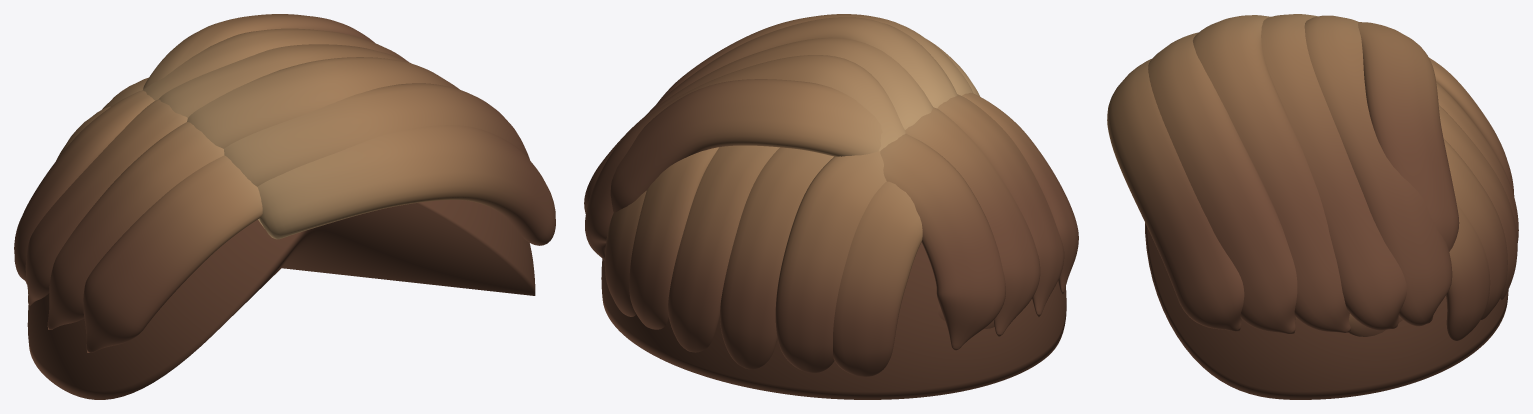
File: Masculine-sidepart-hair258-ombre.glb
The picture shows the model from 3 angles, left to right: view 1: azimuth 30°, elevation 25°; view 2: azimuth 150°, elevation 25°; view 3: azimuth 270°, elevation 25°; orthographic projection. The views are drawn at different scales.
Parts seen in each view (by area): view 1: 226 hair / Hair258 / sculpted side sweep 1, 226 hair / Hair258 / recessed roots, 226 hair / Hair258 / sculpted side sweep 0, 226 hair / Hair258 / sculpted side sweep 2; view 2: 226 hair / Hair258 / sculpted side sweep 0, 226 hair / Hair258 / sculpted side sweep 1, 226 hair / Hair258 / sculpted side sweep 2, 226 hair / Hair258 / recessed roots; view 3: 226 hair / Hair258 / sculpted side sweep 0, 226 hair / Hair258 / sculpted side sweep 1, 226 hair / Hair258 / sculpted side sweep 2, 226 hair / Hair258 / recessed roots.
Boxes of the visible parts, x1,y1,x2,y2 form: 226 hair / Hair258 / sculpted side sweep 1: (14,44,555,352); 226 hair / Hair258 / recessed roots: (27,200,535,399); 226 hair / Hair258 / sculpted side sweep 0: (47,14,529,329); 226 hair / Hair258 / sculpted side sweep 2: (25,57,459,305); 226 hair / Hair258 / sculpted side sweep 0: (585,14,1064,372); 226 hair / Hair258 / sculpted side sweep 1: (584,37,1078,369); 226 hair / Hair258 / sculpted side sweep 2: (646,17,1040,376); 226 hair / Hair258 / recessed roots: (601,242,1066,399); 226 hair / Hair258 / sculpted side sweep 0: (1148,15,1514,336); 226 hair / Hair258 / sculpted side sweep 1: (1107,14,1518,340); 226 hair / Hair258 / sculpted side sweep 2: (1193,15,1517,332); 226 hair / Hair258 / recessed roots: (1145,223,1508,399).
Bounding box in the file's own units: 0.9741 × 0.5696 × 0.7913.
